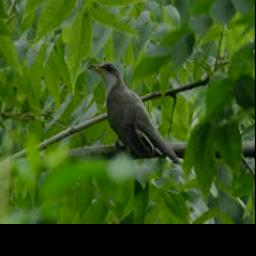Cuckoo: (88, 62, 180, 164)
